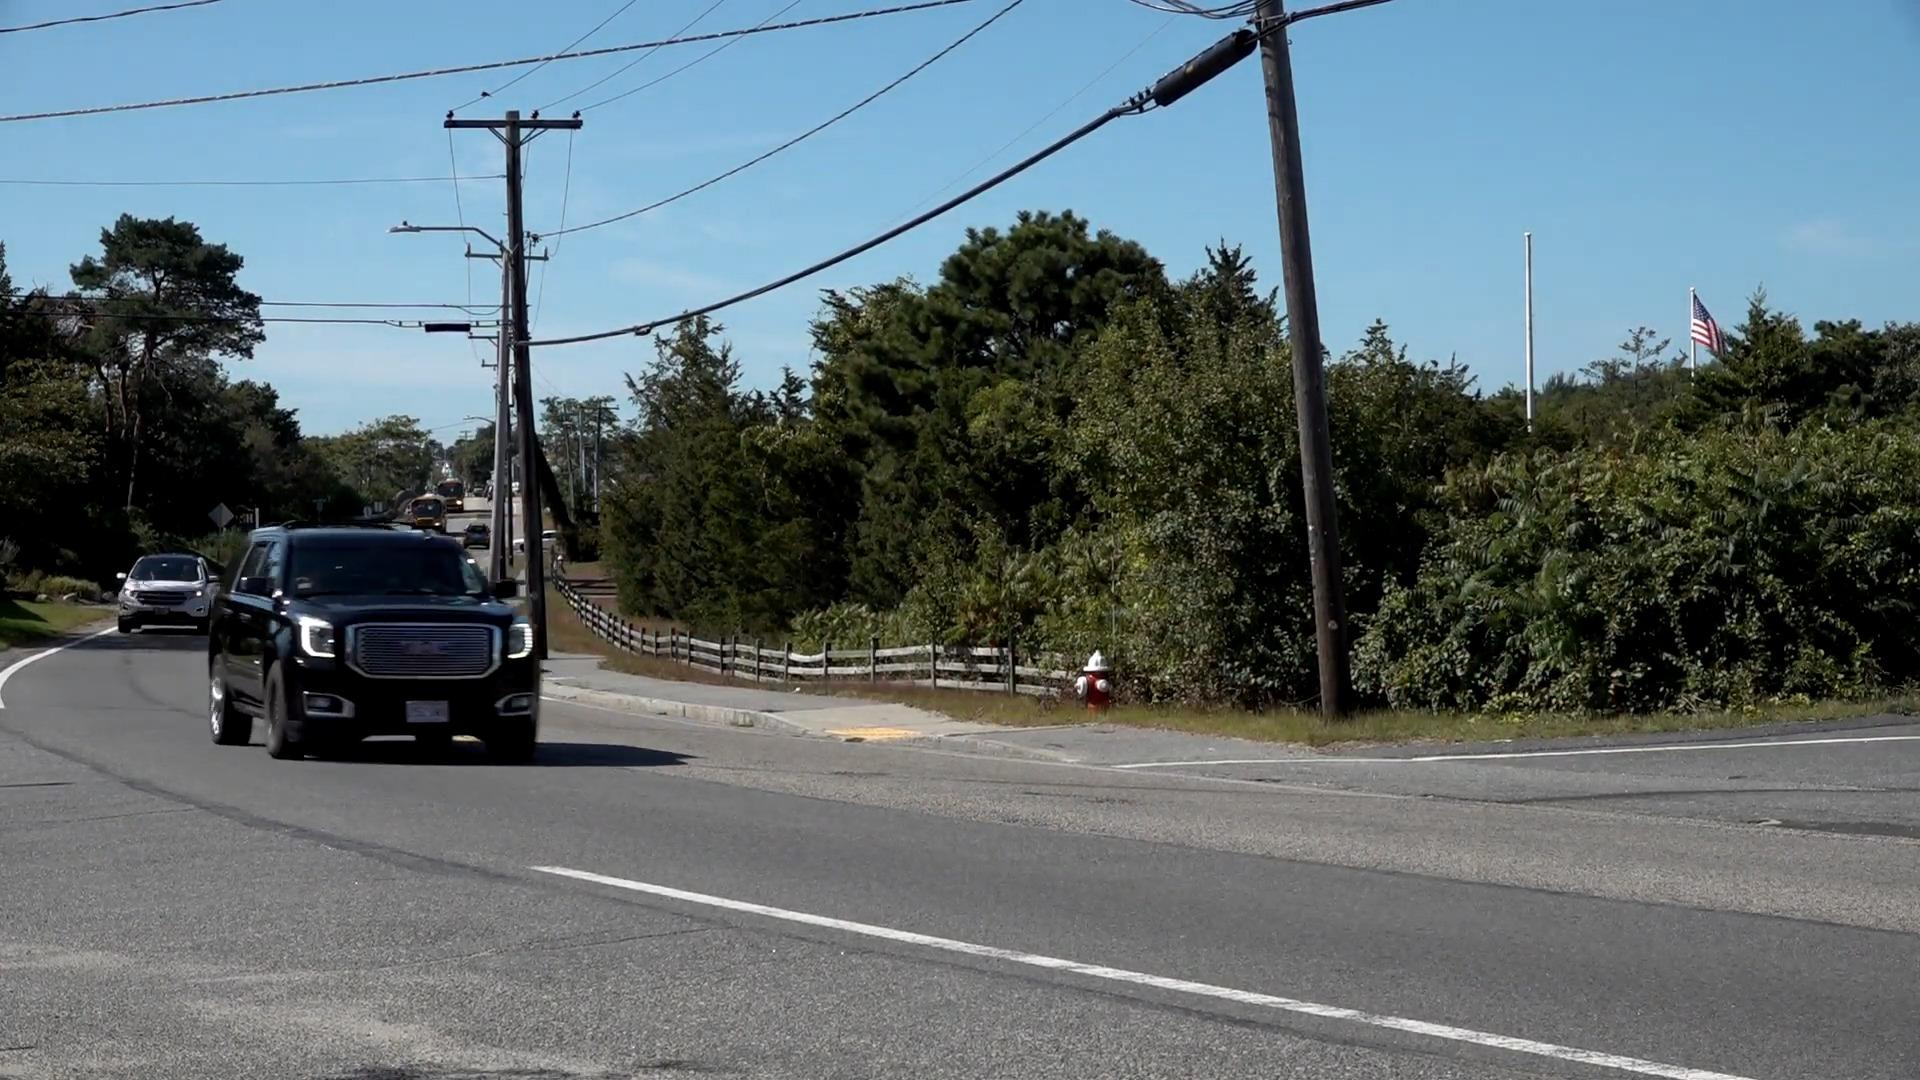suv: (203, 527, 543, 761), (120, 554, 203, 634)
